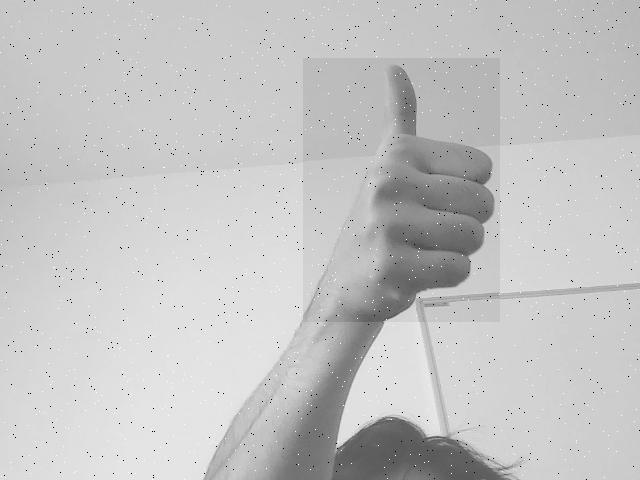good: (304, 59, 500, 322)
